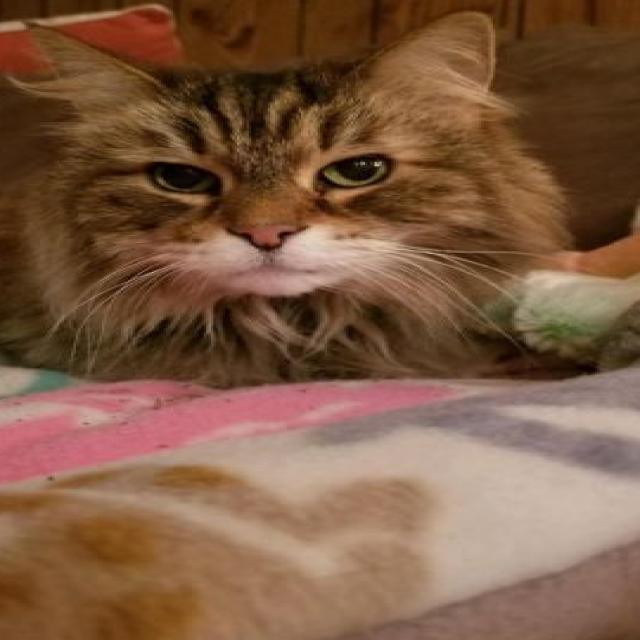Maine Coon: (0, 8, 574, 386)
